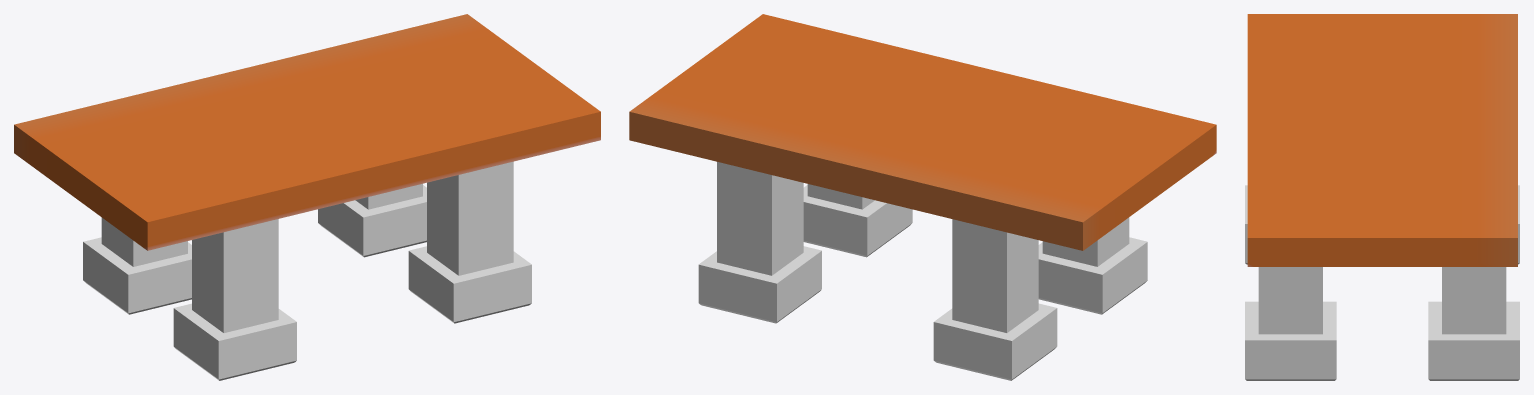
File: Table.FBX
3 views of the same model, side by side, from view 1: azimuth 30°, elevation 25°; view 2: azimuth 150°, elevation 25°; view 3: azimuth 270°, elevation 25° (orthographic).
Parts seen in each view (by area): view 1: Table; view 2: Table; view 3: Table.
Part boxes in pixels (x1,y1,x2,y2): Table: (14,14,600,380); Table: (629,14,1216,380); Table: (1245,14,1519,380).
Bounding box in the file's own units: 579 × 215 × 300.
